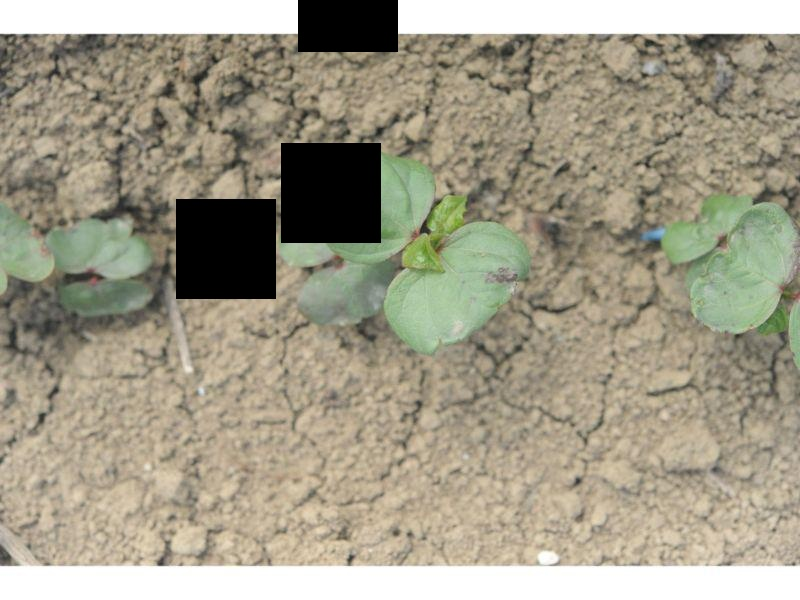cotton: (278, 150, 532, 353), (663, 192, 800, 359), (0, 198, 152, 317)
